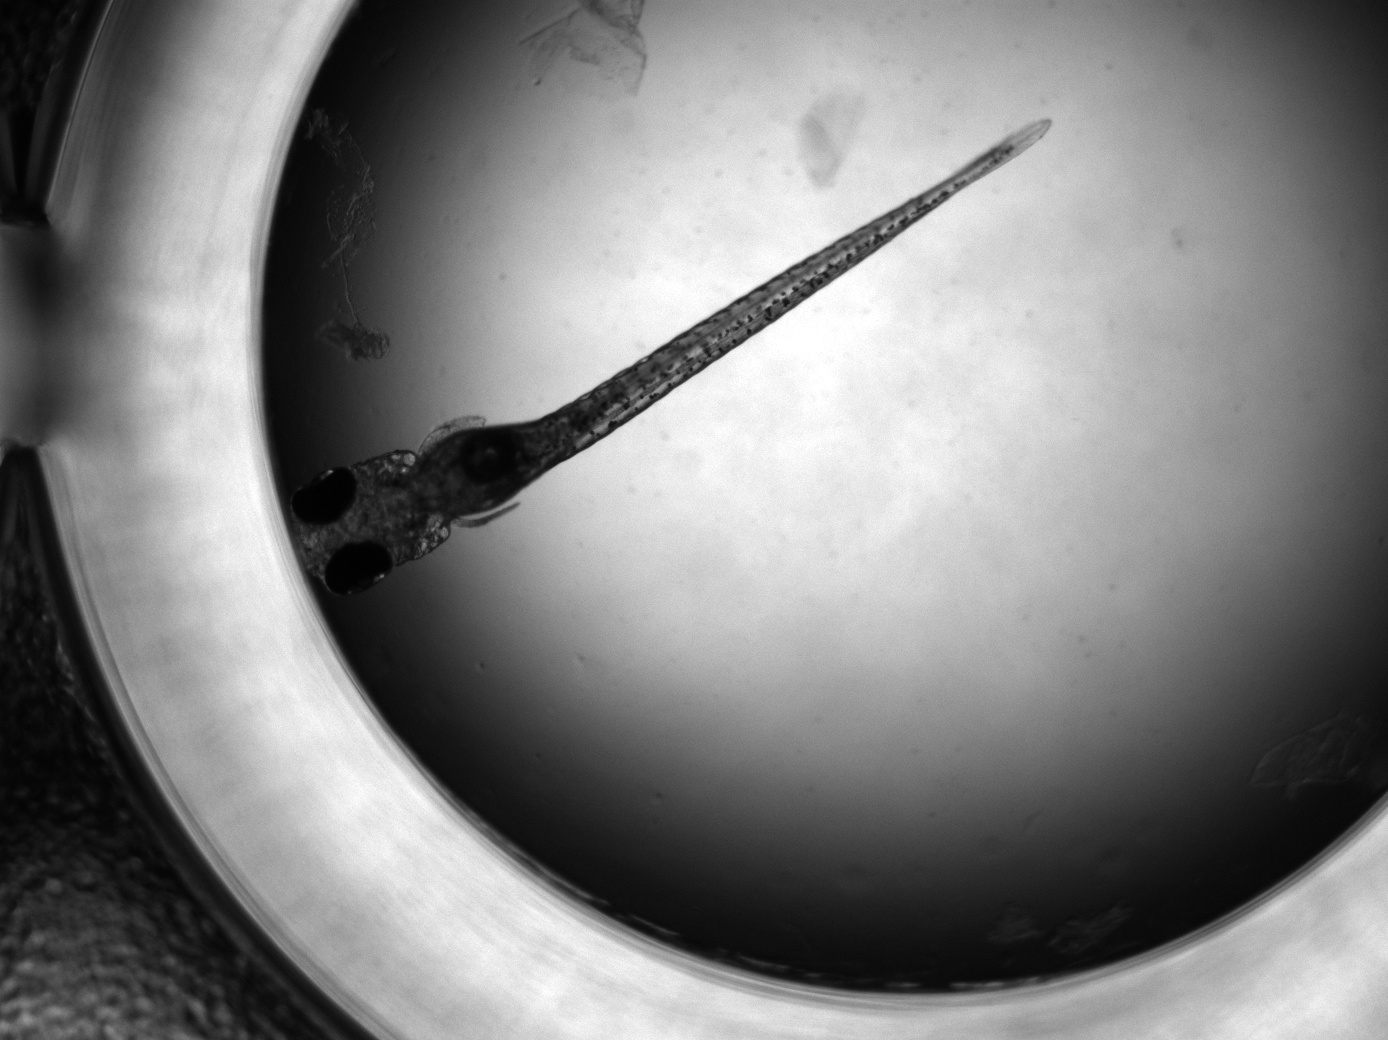debris: (302, 109, 392, 362), (518, 1, 650, 85)
embryo: (289, 115, 1056, 594)
eye: (290, 465, 359, 527), (325, 540, 394, 595)
yolksac: (420, 423, 570, 517)
